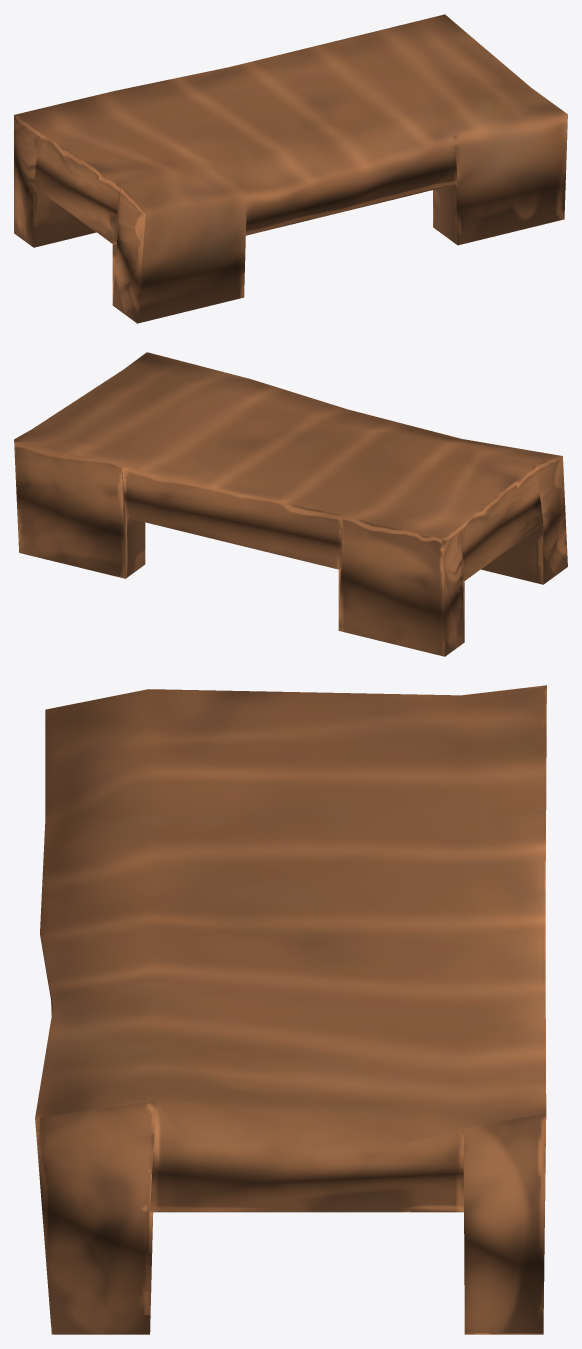
File: Table.fbx
The picture shows the model from 3 angles, top to bottom: view 1: azimuth 30°, elevation 25°; view 2: azimuth 150°, elevation 25°; view 3: azimuth 270°, elevation 25°; orthographic projection. The views are drawn at different scales.
Visible parts, largest first — view 1: Table; view 2: Table; view 3: Table.
Boxes of the visible parts, box(x1,y1,x2,y2) form: Table: box(14, 14, 567, 323); Table: box(14, 352, 567, 656); Table: box(35, 685, 546, 1334).
Bounding box in the file's own units: 305 × 79.93 × 156.
